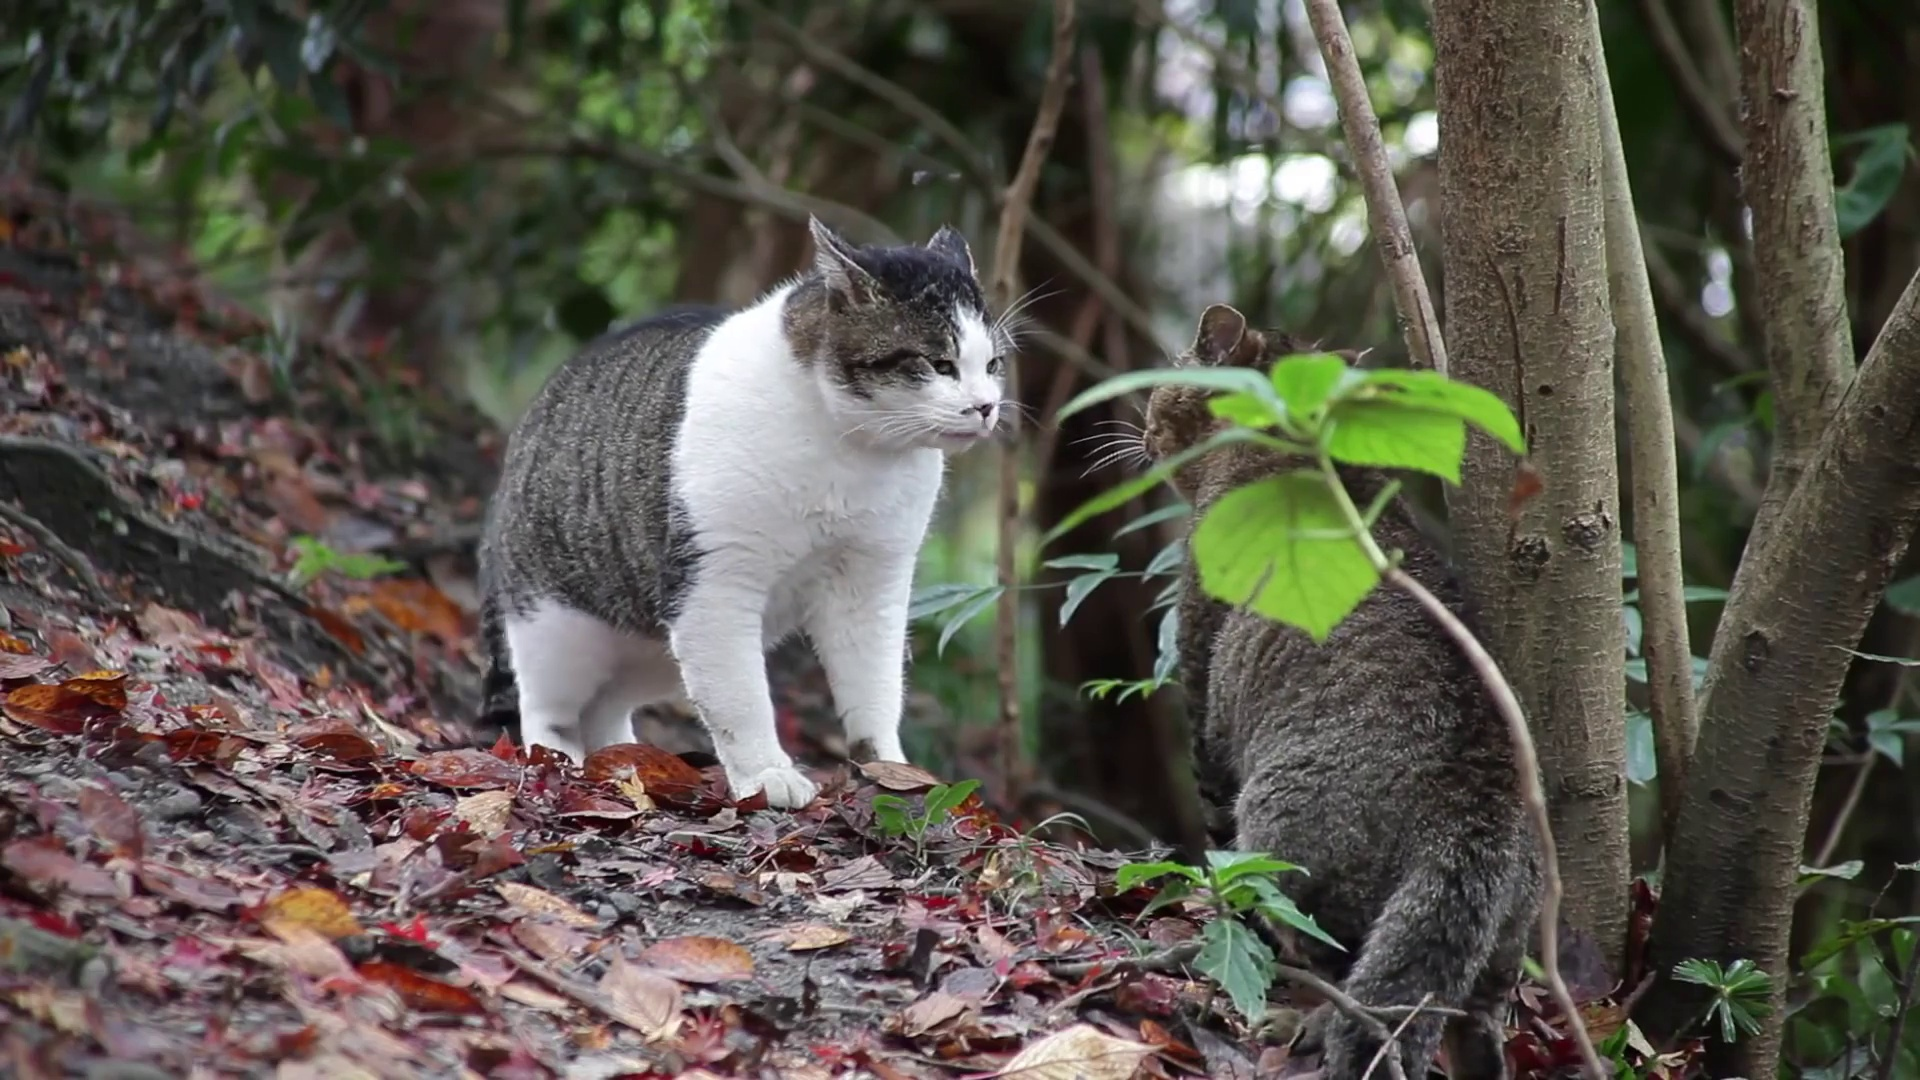black-white: (473, 210, 1001, 807)
pure black: (1141, 302, 1534, 1080)
